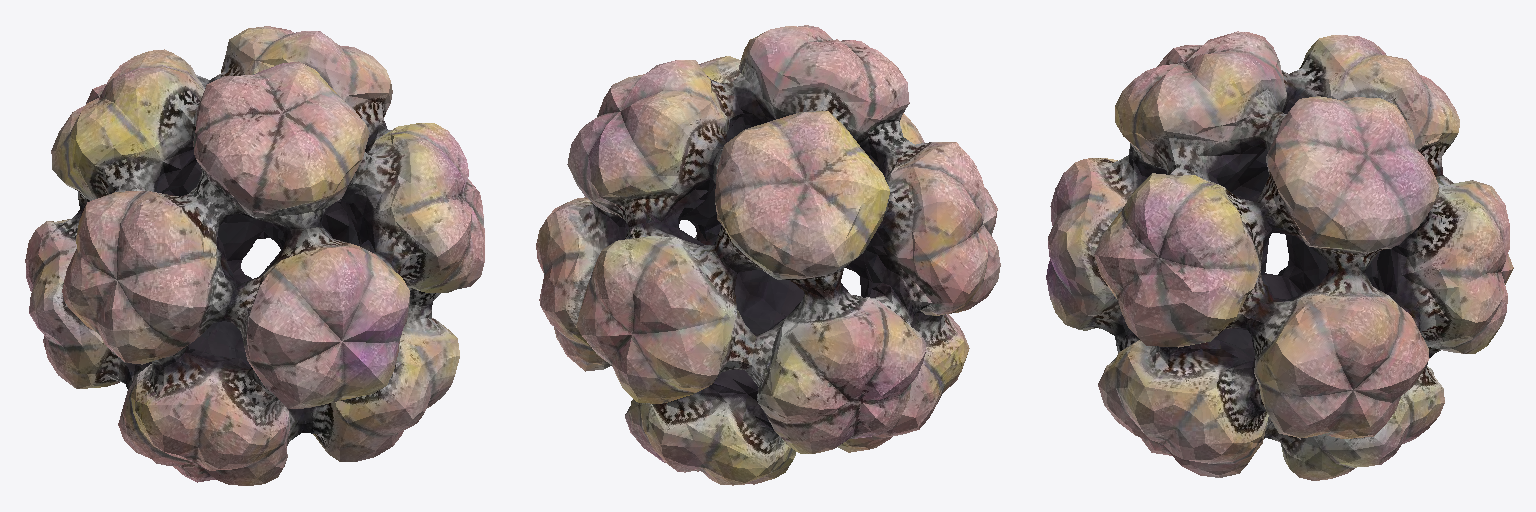
3 renders of one model, left to right at view 1: azimuth 30°, elevation 25°; view 2: azimuth 150°, elevation 25°; view 3: azimuth 270°, elevation 25°, orthographic.
Parts seen in each view (by area): view 1: GameObject; view 2: GameObject; view 3: GameObject.
Boxes of the visible parts, box(x1,y1,x2,y2) form: GameObject: box(25, 26, 484, 485); GameObject: box(536, 25, 1000, 485); GameObject: box(1046, 31, 1513, 480).
Size of the model in its own units: 0.9814 by 0.9629 by 0.9976.
1 materials, 1 textured.